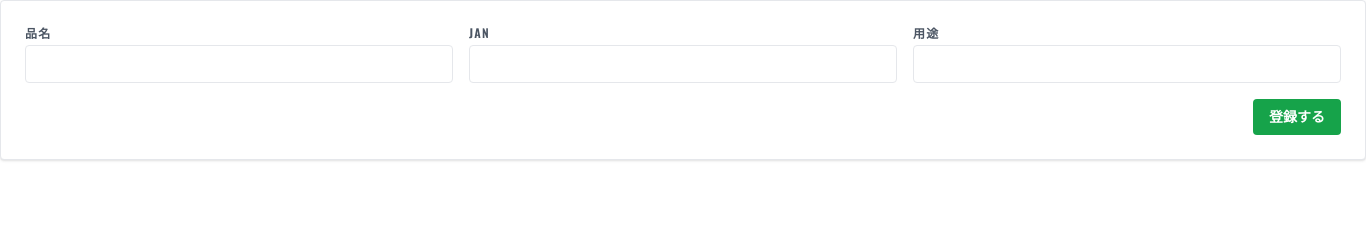
ConsumableRegisterForm › 品名が未入力のまま送信するとAPIを呼ばずエラーを表示する
Type "止血" into the field labelled "用途". click: [1127, 64]
box: top-left (913, 45), bottom-right (1341, 83)
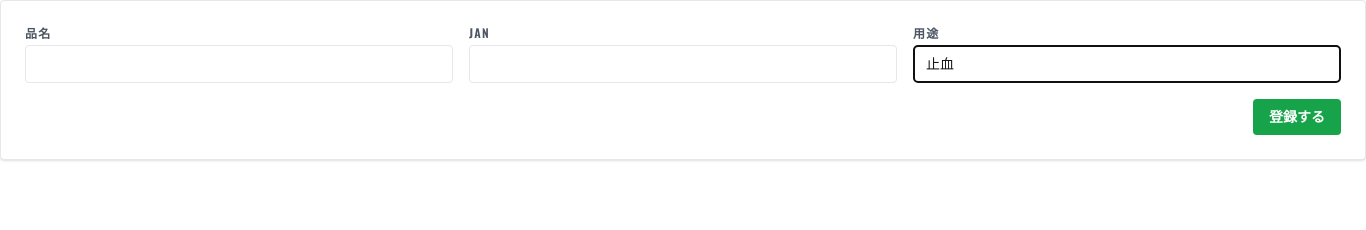
Click the button "登録する". click: [1297, 117]
box: top-left (1253, 99), bottom-right (1341, 135)
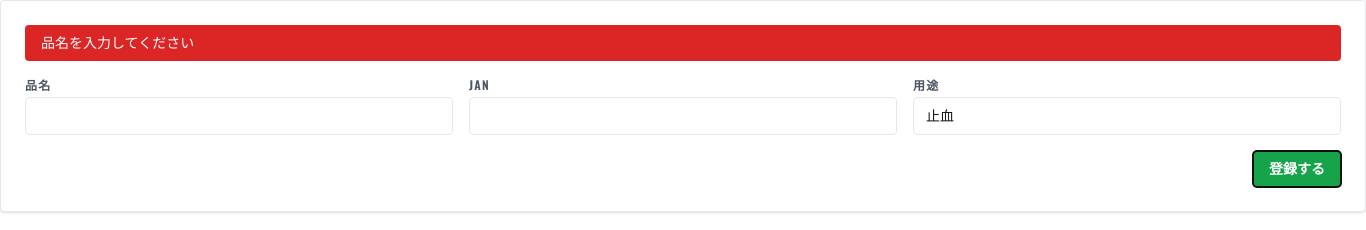
Expected: the text "品名を入力してください" is shown, top-left (25, 25), bottom-right (1341, 61)
